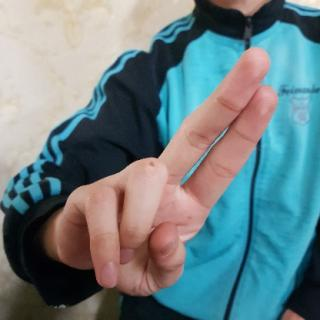TA: (39, 39, 282, 302)
